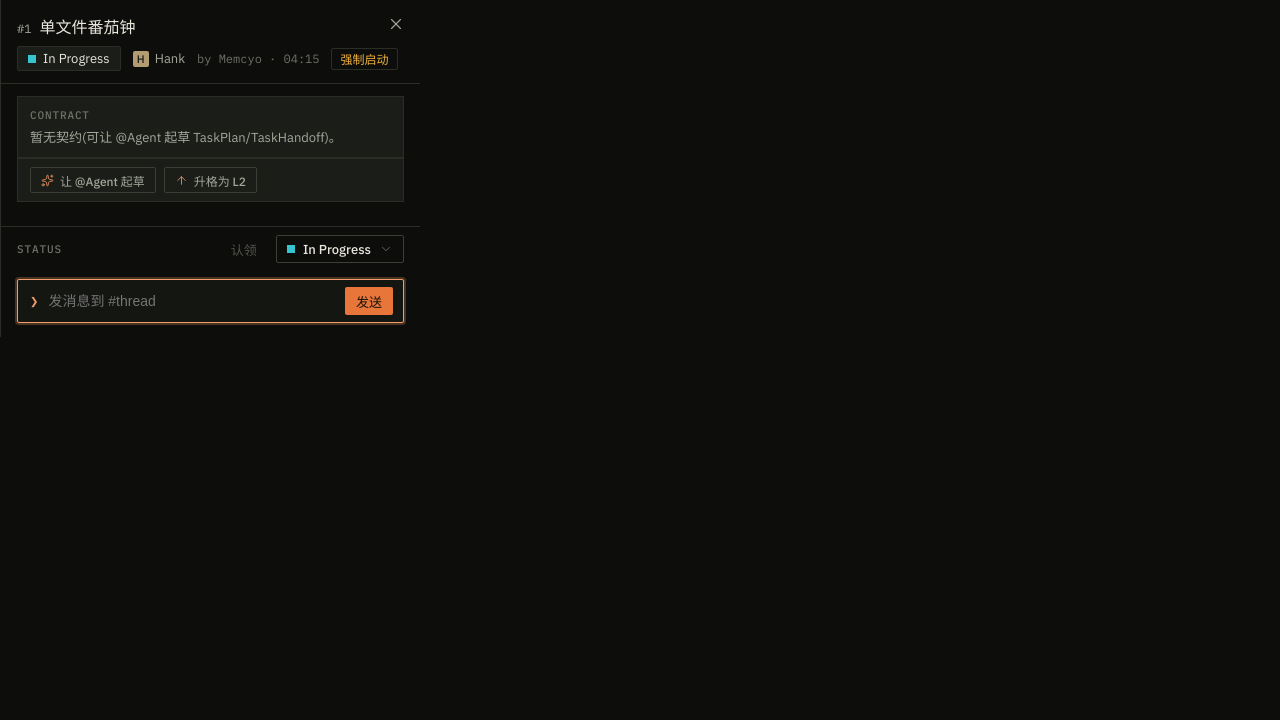
Test case: ThreadPanel 让 @Agent 起草(补契约 Agent 路) › 选 Agent+kind → requestContractDraft(202)成功 toast
Click the button "让 @Agent 起草": (93, 180) [30, 167, 156, 193]
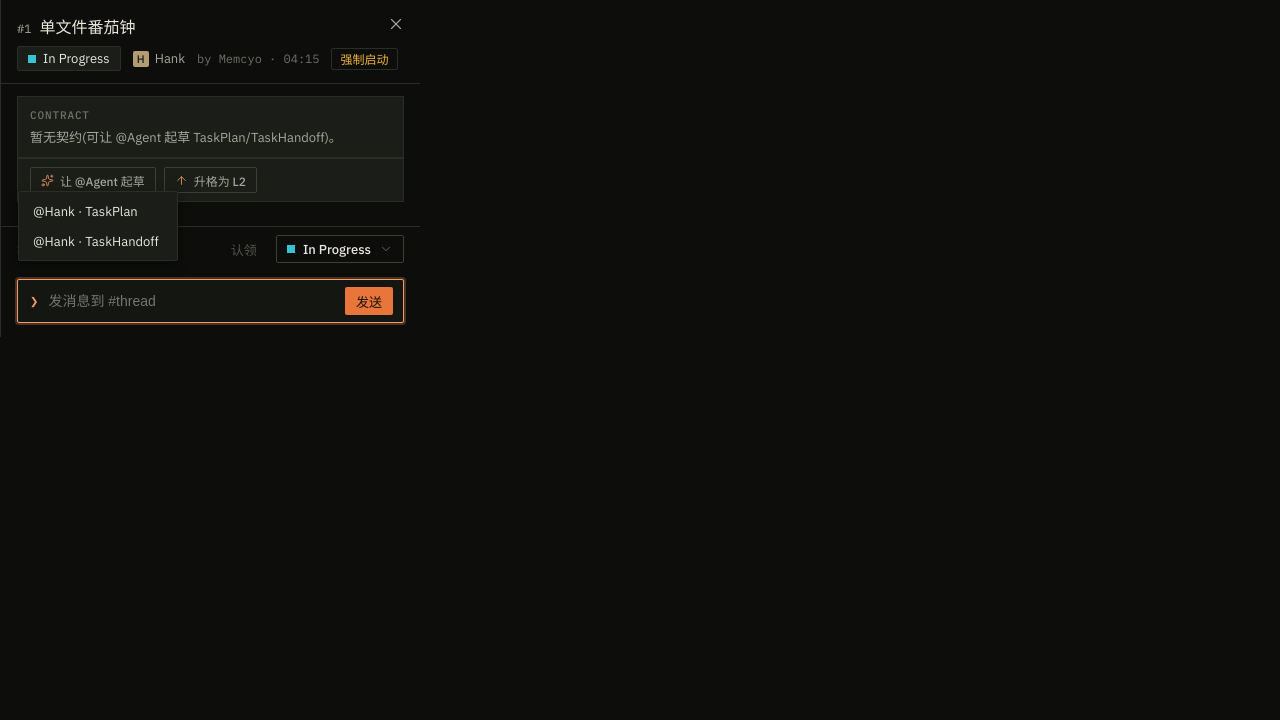
Click the text "@Hank · TaskPlan": (85, 211) [33, 202, 138, 220]
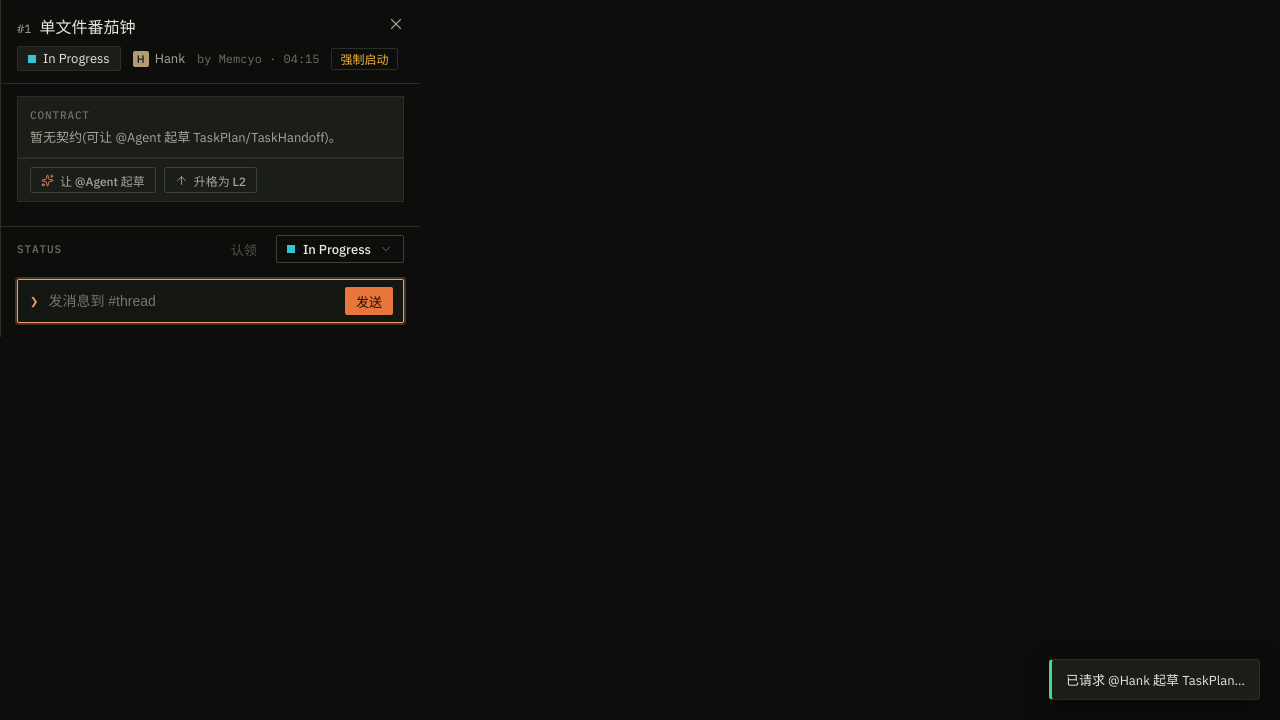
Expected: the text "已请求 @Hank 起草 TaskPlan…" is shown, [1049, 659, 1260, 700]
